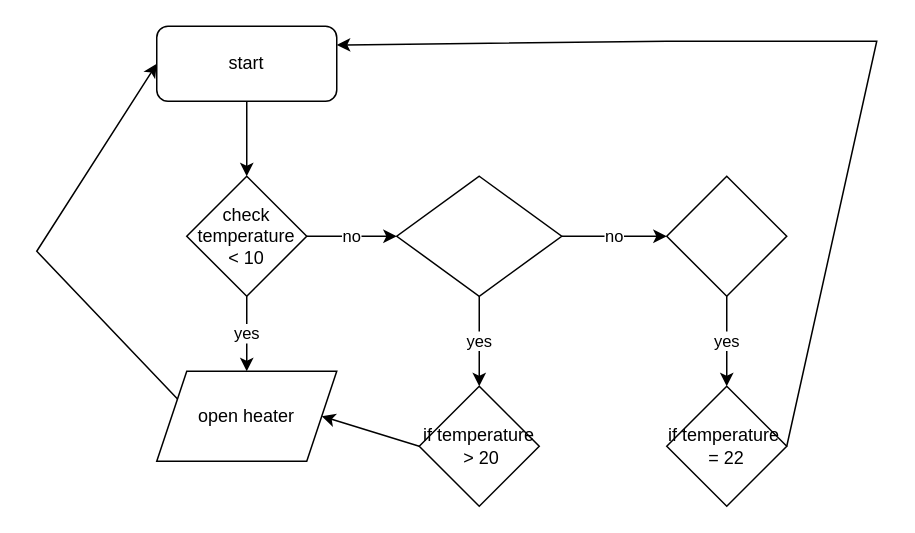
Some shapes in this 915 by 533 pixel diagram are drawn without their labels. Each missing label, with the box of its shape:
check for weekend 8.00 to 23.00: (665, 175, 787, 296)
check time for week if 6.00 to 8.00 or 17.30 to 22.00: (395, 175, 562, 296)
